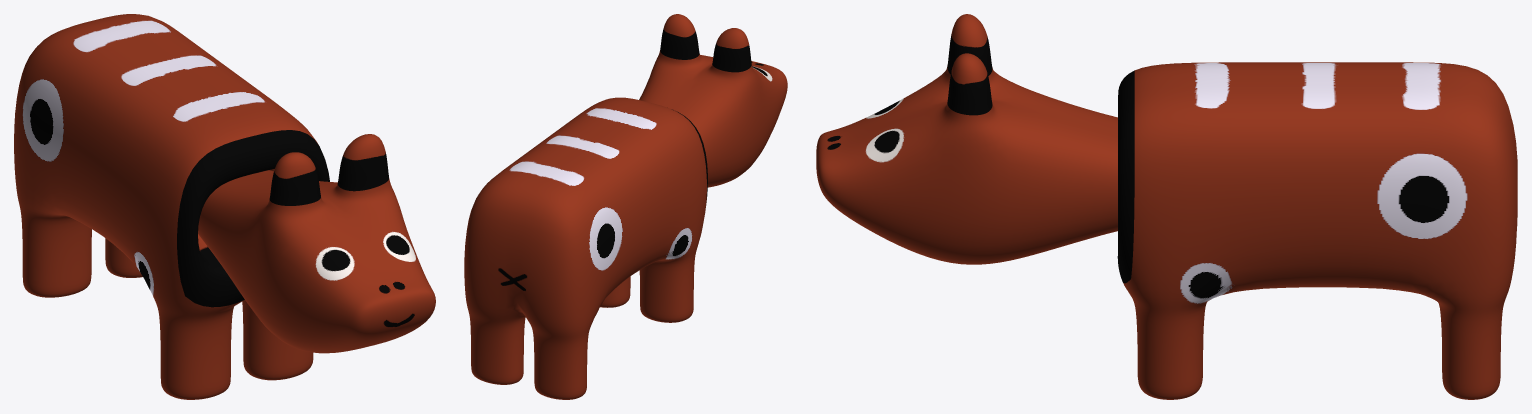
Rendered from akabeko.glb.
3 renders of one model, left to right at view 1: azimuth 30°, elevation 25°; view 2: azimuth 150°, elevation 25°; view 3: azimuth 270°, elevation 25°, orthographic. The views are drawn at different scales.
Parts seen in each view (by area): view 1: 立方体, face; view 2: 立方体, face; view 3: 立方体, face.
Part boxes in pixels (box(x1,y1,x2,y2)): 立方体: box(14, 14, 329, 399); face: box(198, 134, 435, 353); 立方体: box(464, 97, 707, 399); face: box(639, 14, 787, 187); 立方体: box(1117, 62, 1517, 399); face: box(816, 14, 1117, 264).
Bounding box in the file's own units: 2.37 × 4.28 × 8.21.
Materials: 2 (2 with a texture image).
